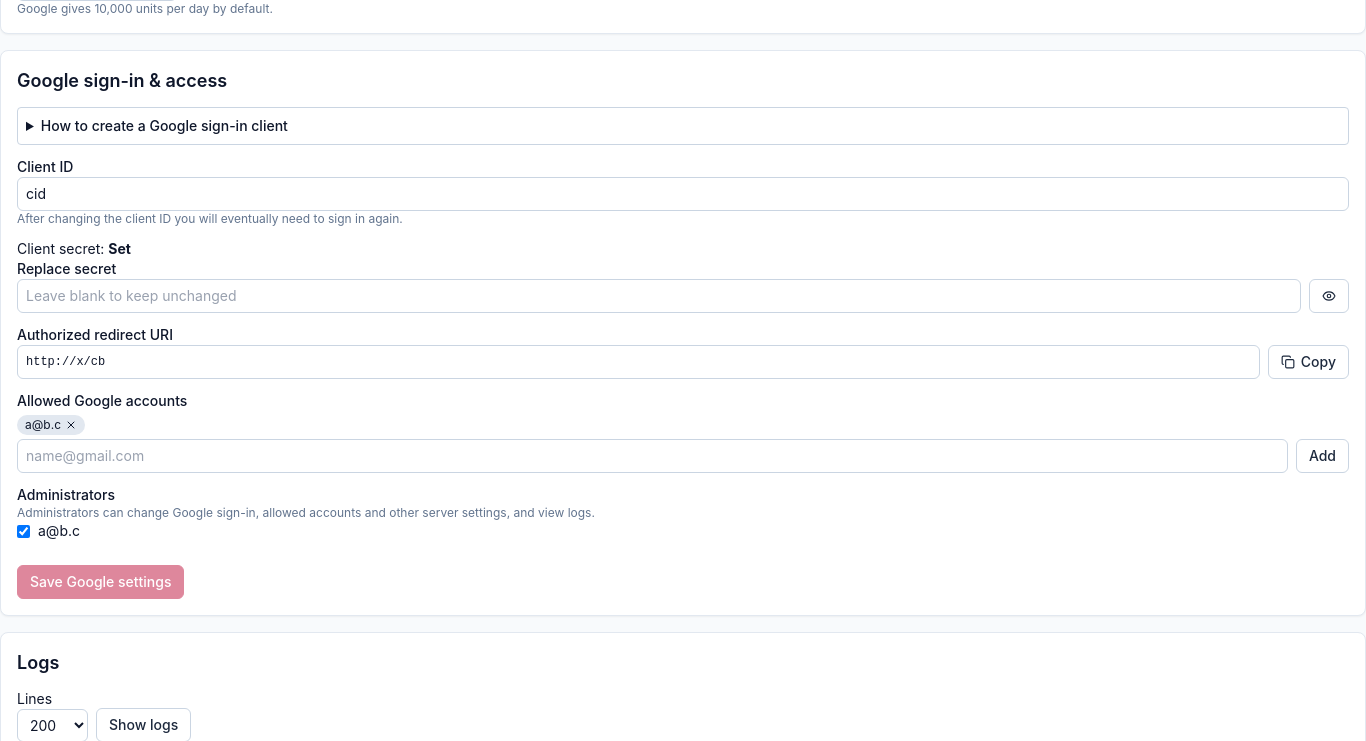
Test case: Google section › shows cannot_remove_self message
(page scrolled)
Expected: the field labelled "Allowed Google accounts" is shown, x1=17 y1=439 x2=1288 y2=473
Click the button named "Remove a@b.c".
click(71, 425)  # box x1=65 y1=419 x2=77 y2=431
(page scrolled)
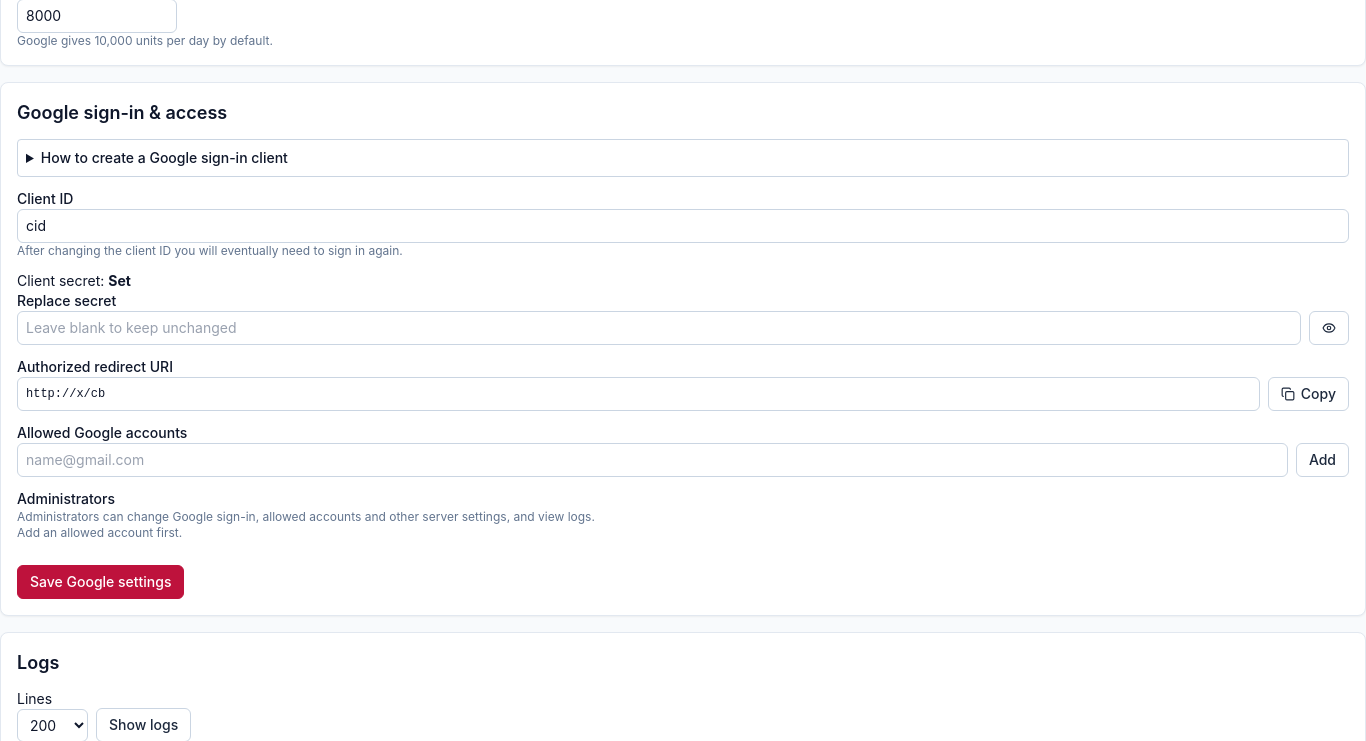
Click the button "Save Google settings".
click(101, 582)  # box x1=17 y1=565 x2=184 y2=599
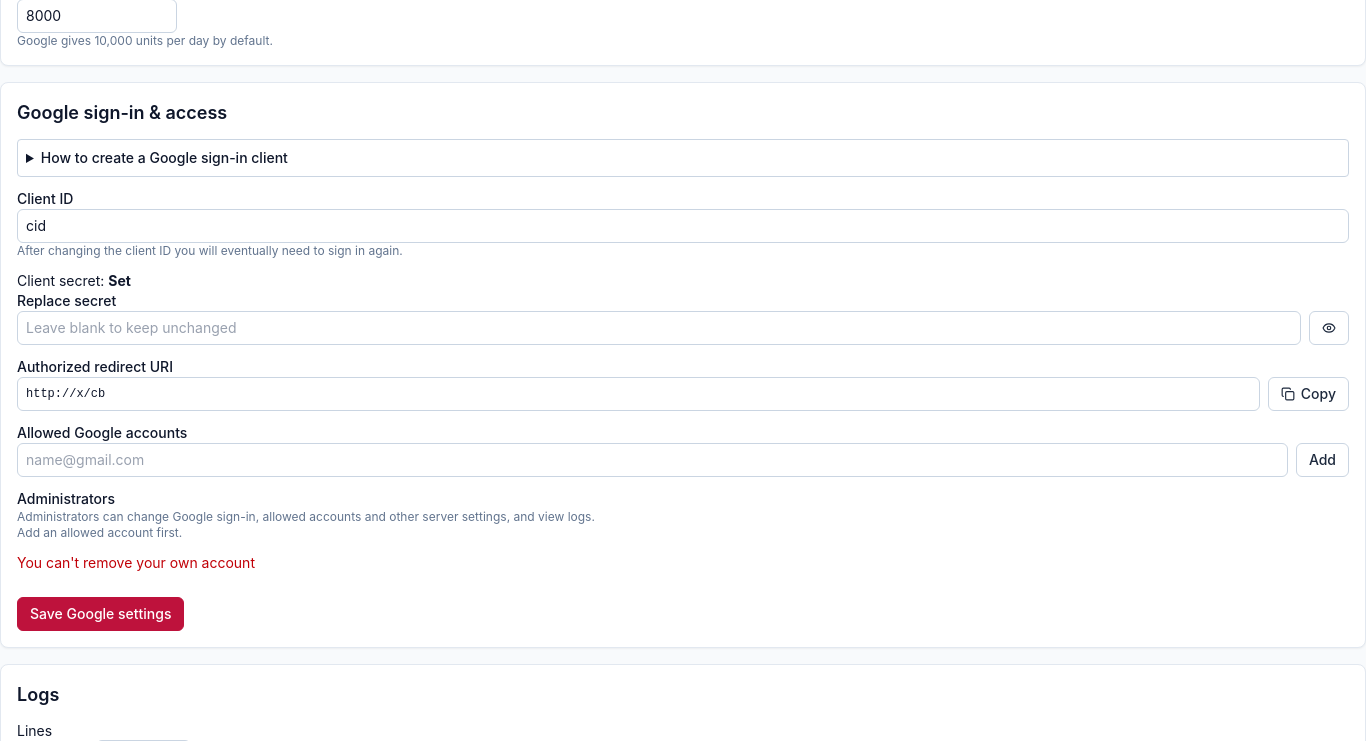
Expected: the text "You can't remove your own account" is shown, x1=17 y1=554 x2=255 y2=571
